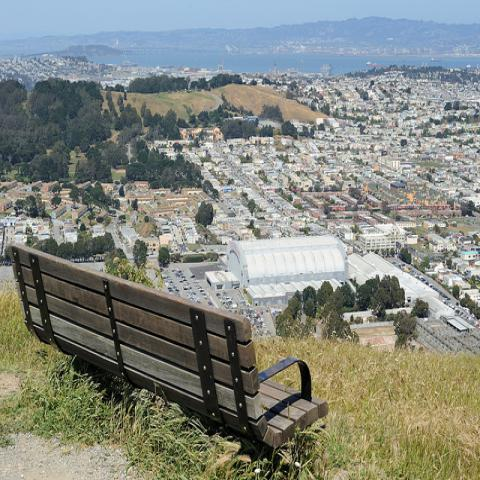car: (184, 286, 188, 294), (227, 299, 232, 304), (195, 283, 200, 287), (184, 282, 189, 285), (169, 289, 173, 292), (192, 292, 195, 295), (179, 281, 183, 282)
